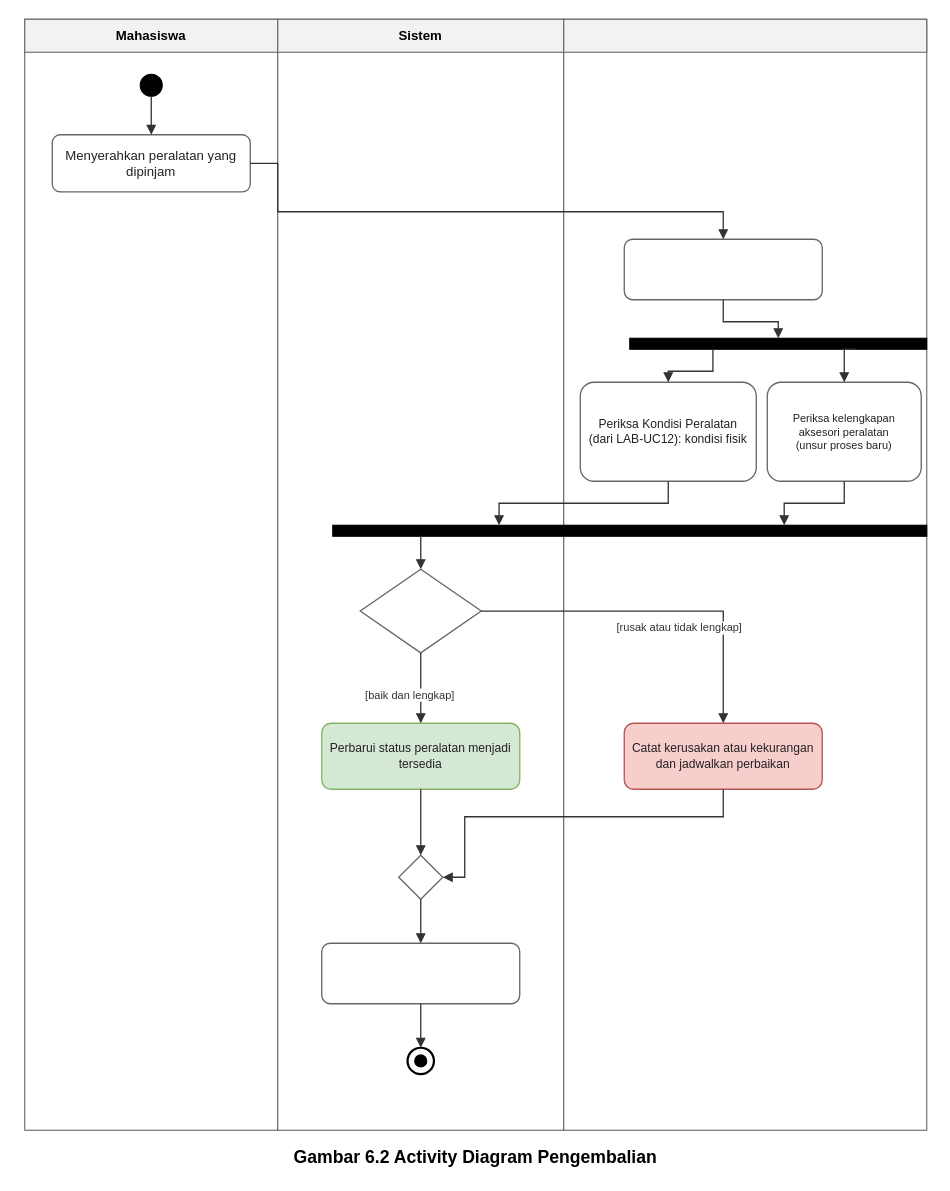
The diagram is 950 pixels wide and 1191 high, and some of its shapes have lost their labels. The shapes that lost their labels are listed below. From the top down, each one's centre as x and y in pixels, then its label:
point 745,35: Petugas Laboratorium
point 722,269: Catat Pengembalian Peralatan (LAB-UC11)
point 420,610: Kondisi peralatan baik dan lengkap?
point 420,973: Menutup transaksi peminjaman
